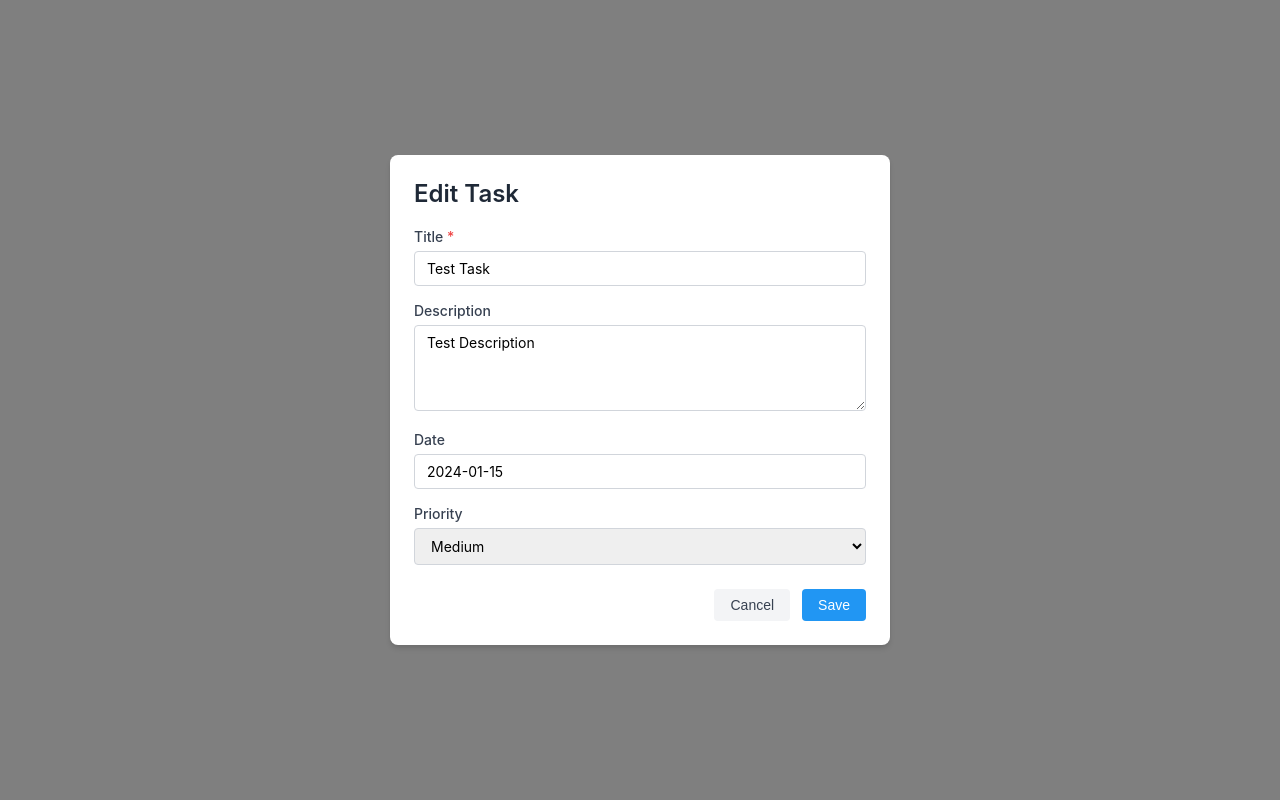
Test case: TaskEditorModal › disables save button when title is empty
Clear the field with test id "task-title-input" at (640, 268), box left=414, top=251, right=866, bottom=286
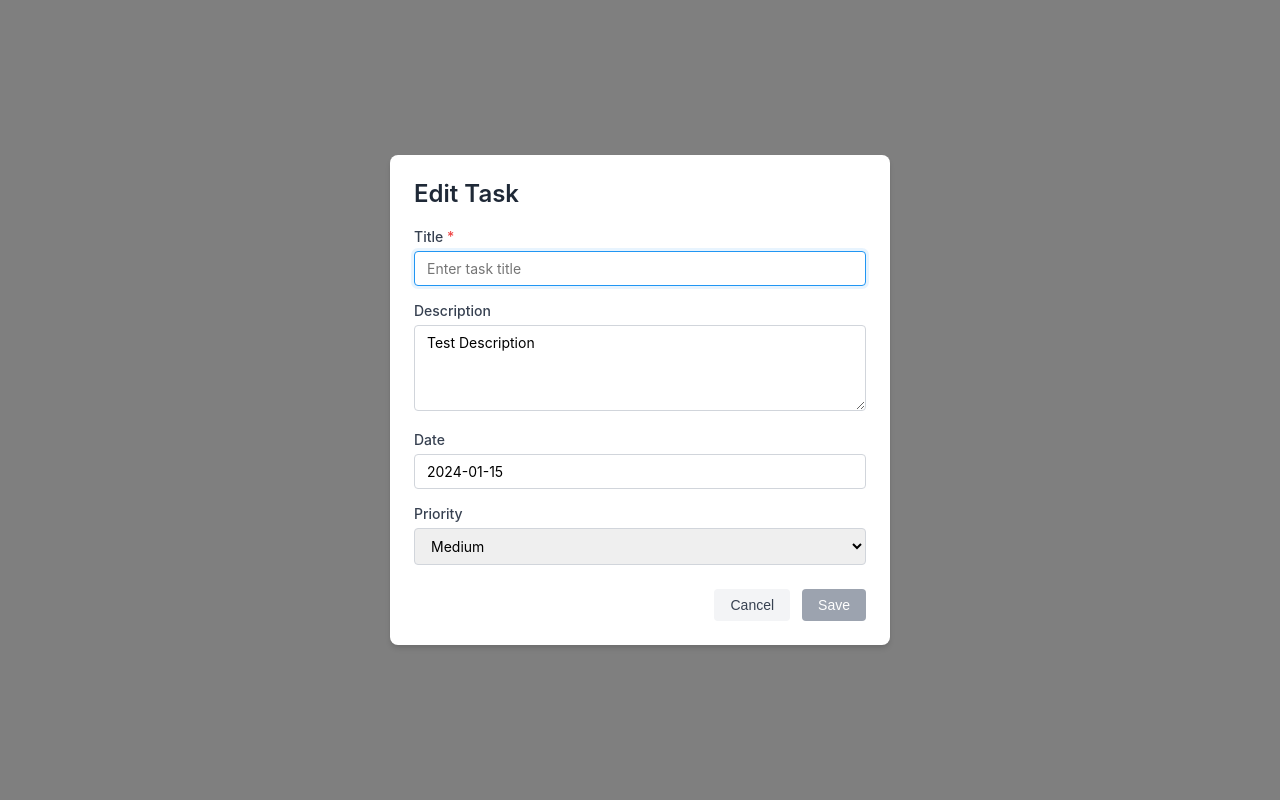
Expected: the button with test id "save-button" is disabled, left=802, top=589, right=866, bottom=621
